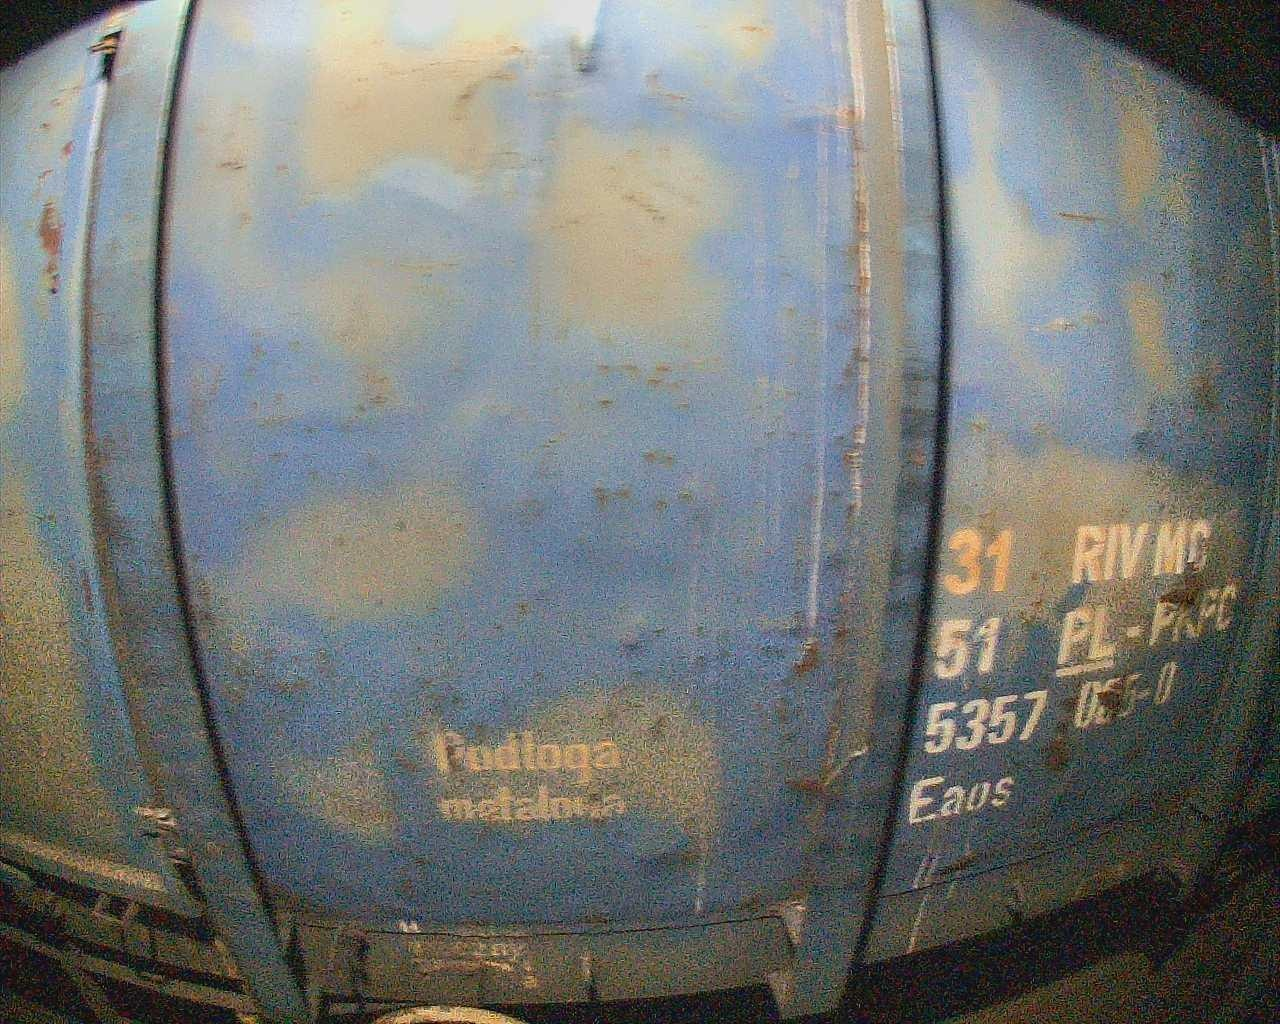UIC: (903, 505, 1243, 840)
